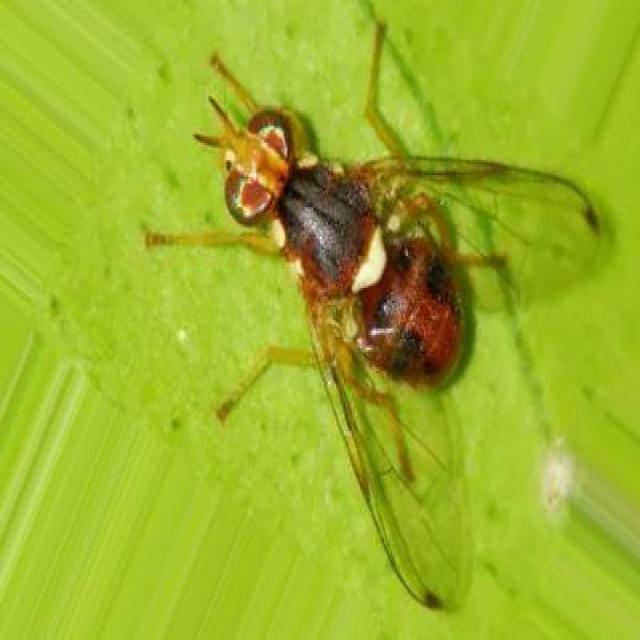Olive Fruit Fly: (146, 17, 598, 606)
